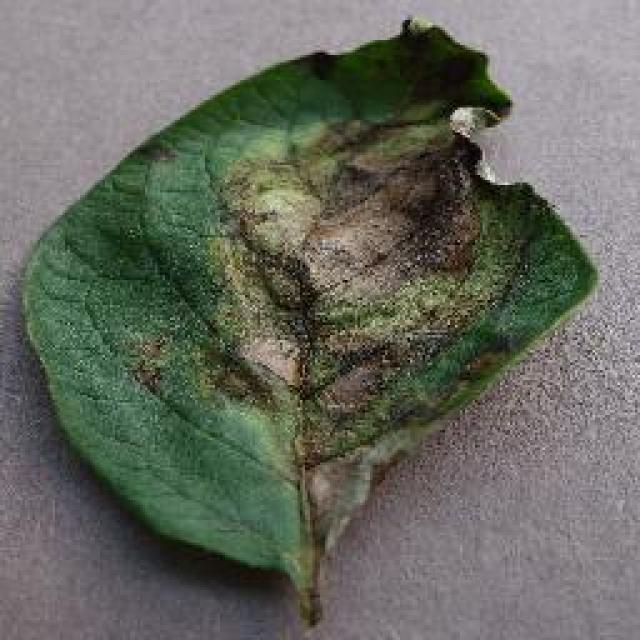late_blight: (15, 12, 600, 628)
